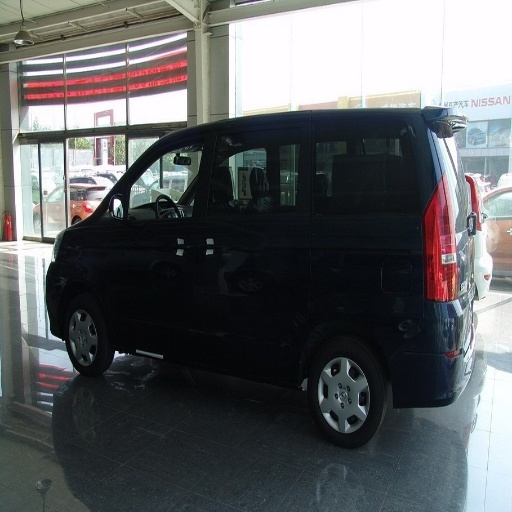back_bumper: (394, 346, 469, 404)
trunk: (103, 252, 153, 342), (337, 218, 414, 273), (389, 330, 450, 366)
